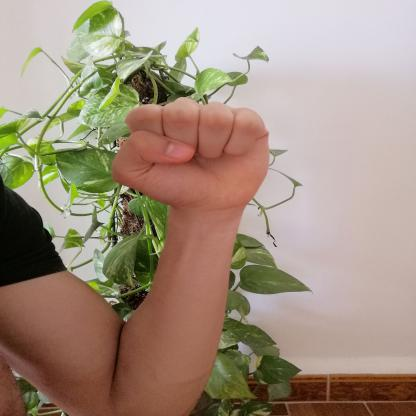SAD: (92, 92, 288, 216)
